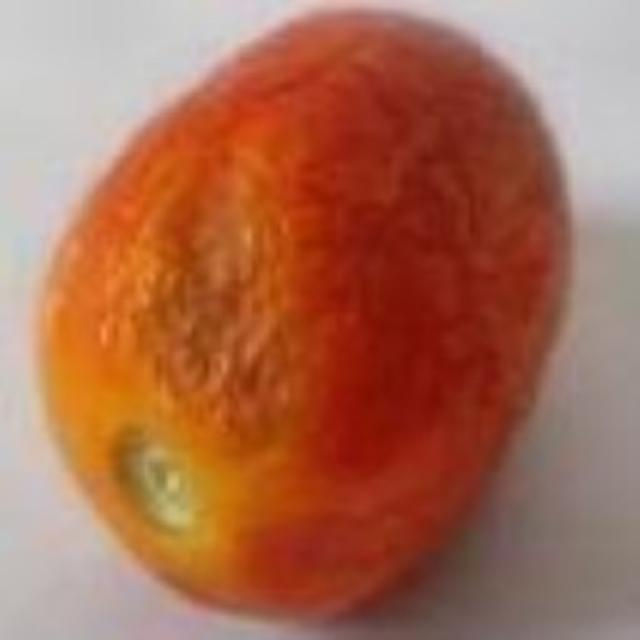defect: (30, 6, 599, 635)
